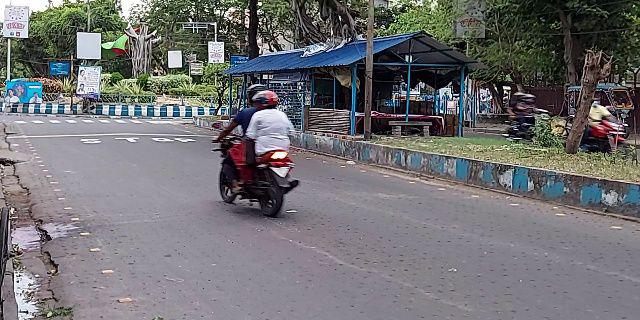Motorbike: (205, 81, 310, 222)
